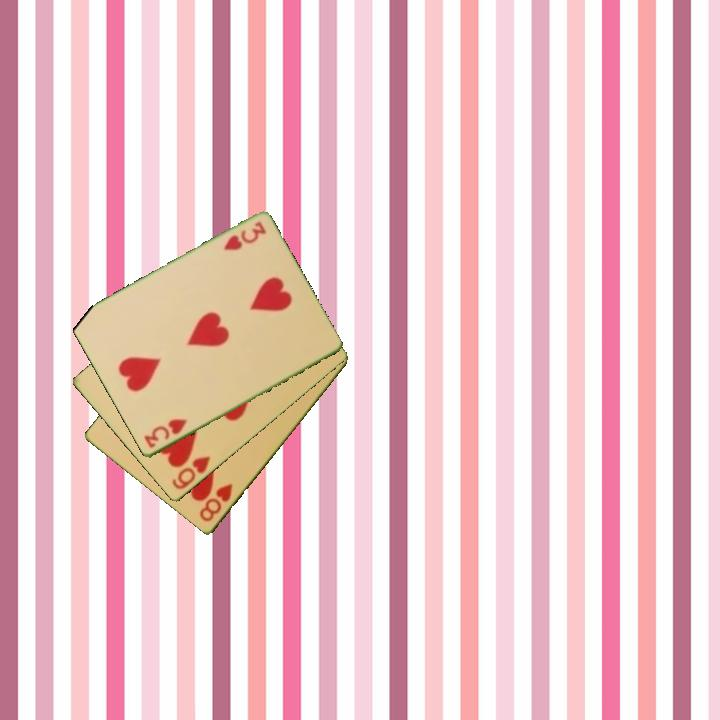3h: (140, 415, 190, 452), (220, 218, 269, 254)
6h: (168, 453, 214, 493)
8h: (196, 480, 236, 525)
